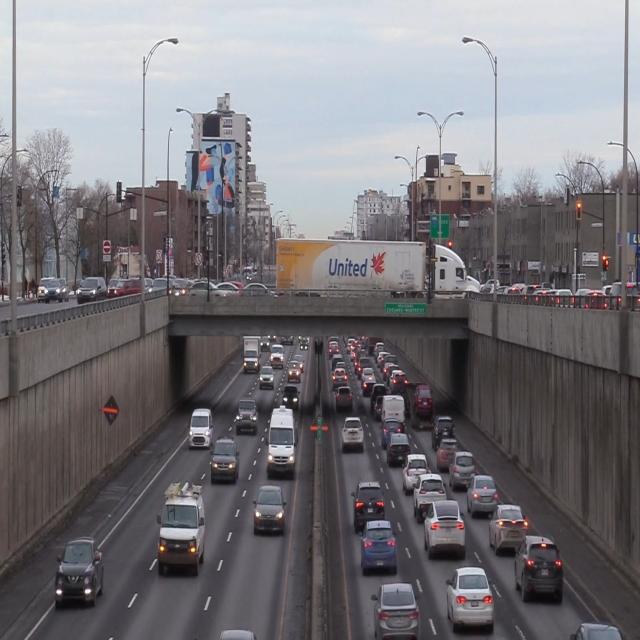Car: (51, 528, 106, 612), (160, 481, 207, 572), (511, 538, 566, 602), (444, 566, 494, 632), (374, 584, 422, 640), (423, 500, 466, 557), (360, 521, 398, 575), (269, 406, 298, 475), (489, 501, 527, 552), (252, 483, 286, 538), (350, 484, 387, 524), (467, 473, 498, 518), (213, 437, 240, 484), (414, 478, 446, 514), (188, 408, 214, 450), (450, 450, 476, 490), (234, 397, 259, 437), (404, 454, 429, 492), (342, 415, 366, 454), (389, 434, 412, 466), (436, 442, 459, 470), (433, 416, 455, 444)
